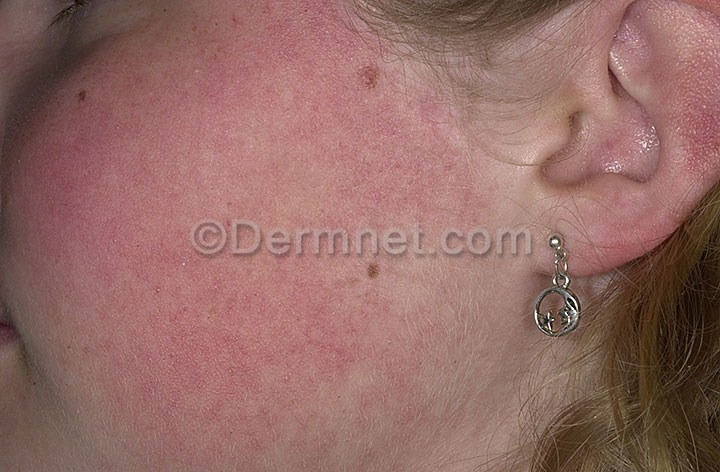Eczema: (16, 59, 520, 453), (133, 3, 365, 54)
